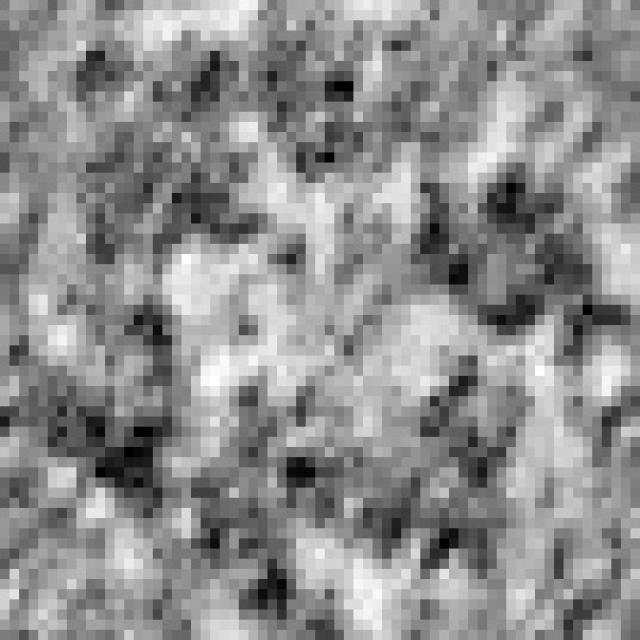inner: (200, 194, 438, 386)
lobe: (154, 377, 356, 640), (69, 34, 281, 283), (409, 156, 632, 377), (241, 5, 495, 181), (351, 352, 542, 586), (26, 288, 204, 533)
outer: (12, 0, 640, 640)
